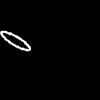chain: (0, 31, 30, 50)
